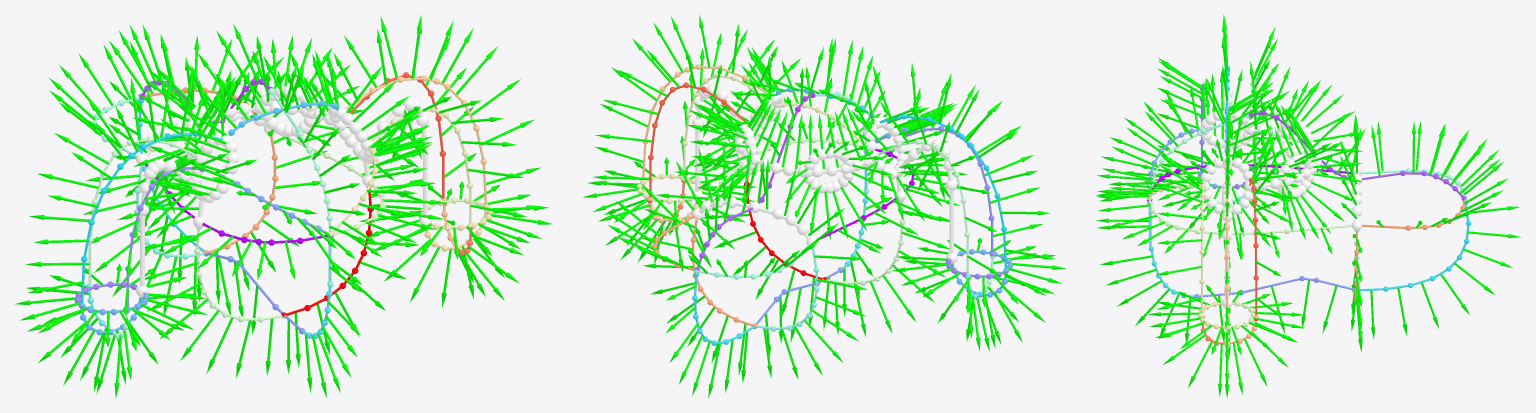
Rendered from scaffolds3d_dog.gltf.
The picture shows the model from 3 angles, left to right: view 1: azimuth 30°, elevation 25°; view 2: azimuth 150°, elevation 25°; view 3: azimuth 270°, elevation 25°; orthographic projection. The views are drawn at different scales.
Size of the model in its own units: 0.9137 by 0.5664 by 0.785.
